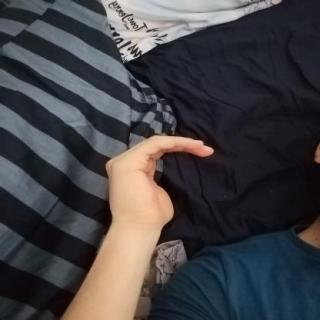HAA: (93, 130, 221, 234)
